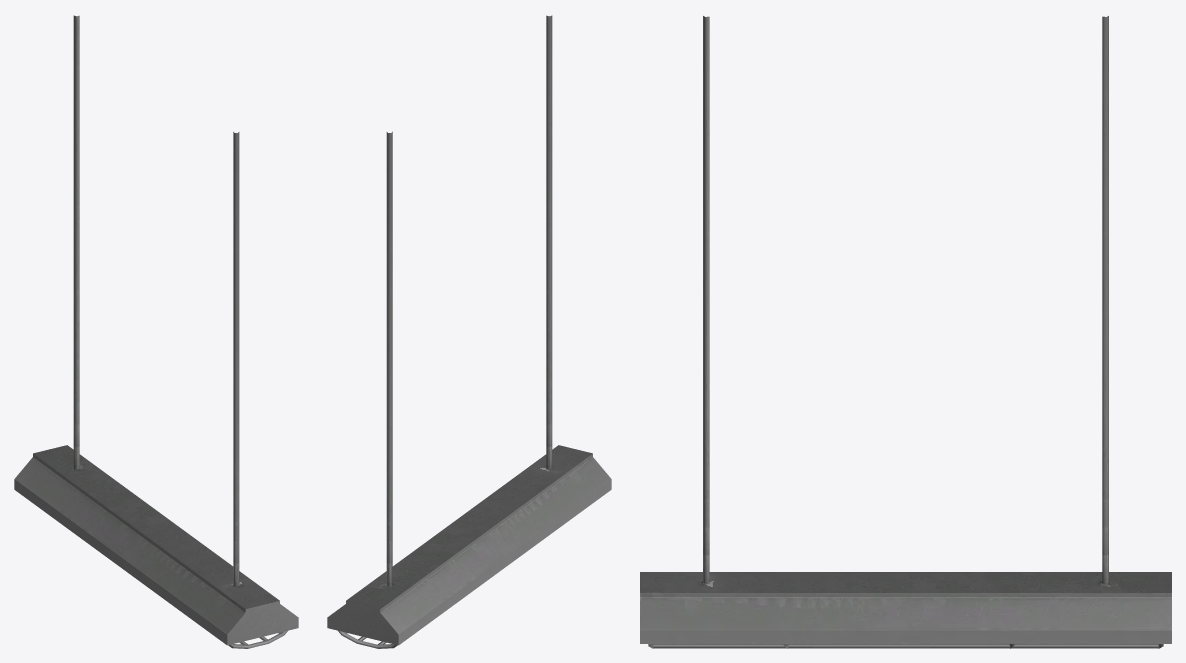
The picture shows the model from 3 angles, left to right: view 1: azimuth 30°, elevation 25°; view 2: azimuth 150°, elevation 25°; view 3: azimuth 270°, elevation 25°; orthographic projection. The views are drawn at different scales.
Parts seen in each view (by area): view 1: body0_model0_lod0_mesh0; view 2: body0_model0_lod0_mesh0; view 3: body0_model0_lod0_mesh0.
Part boxes in pixels (box(x1,y1,x2,y2)): body0_model0_lod0_mesh0: box(14, 15, 298, 648); body0_model0_lod0_mesh0: box(327, 15, 611, 648); body0_model0_lod0_mesh0: box(640, 16, 1171, 648).
Bounding box in the file's own units: 18.56 × 124 × 95.86.
Materials: 1 (1 with a texture image).
